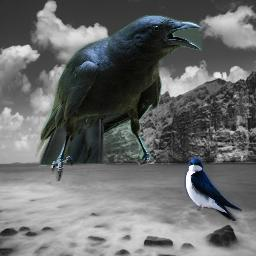Crow: (35, 15, 202, 182)
Swallow: (184, 157, 242, 221)
